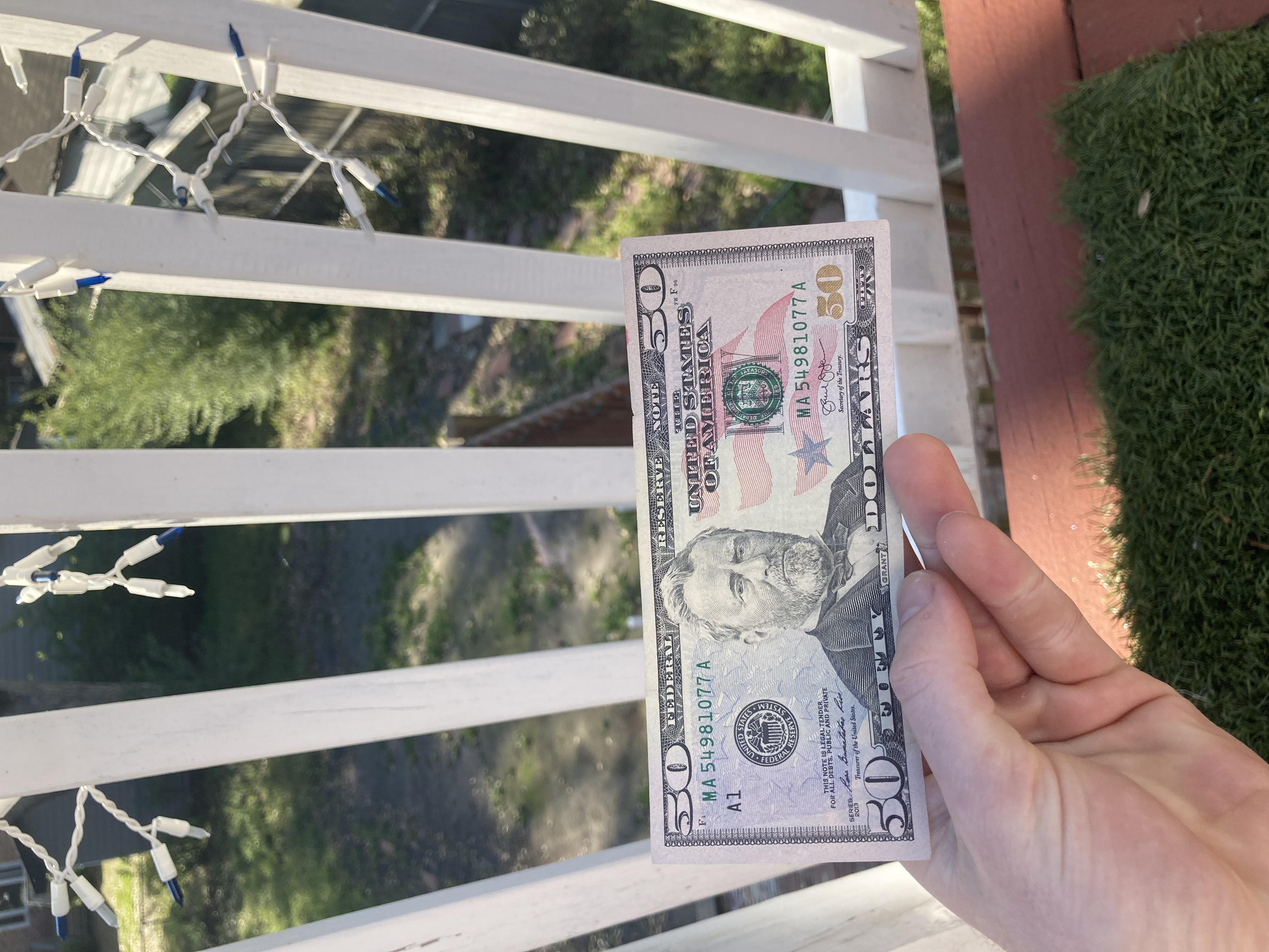fifty-front: (110, 466, 978, 701)
